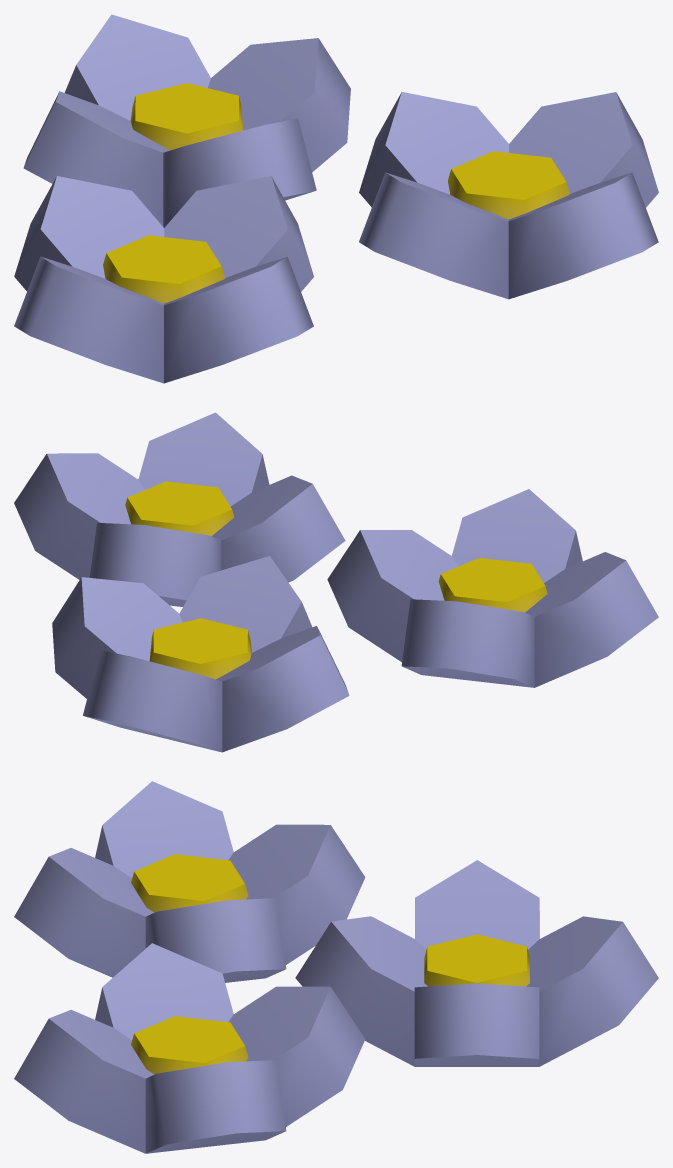
The model's file is flowers-ground.glb.
3 views of the same model, one above another, from view 1: azimuth 30°, elevation 25°; view 2: azimuth 150°, elevation 25°; view 3: azimuth 270°, elevation 25° (orthographic). The views are drawn at different scales.
Visible parts, largest first — view 1: flowers-ground; view 2: flowers-ground; view 3: flowers-ground.
Boxes of the visible parts, x1=… form: flowers-ground: x1=14, y1=14, x2=658, y2=383; flowers-ground: x1=14, y1=412, x2=658, y2=752; flowers-ground: x1=14, y1=781, x2=658, y2=1153.
Size of the model in its own units: 0.2914 by 0.0521 by 0.2558.
